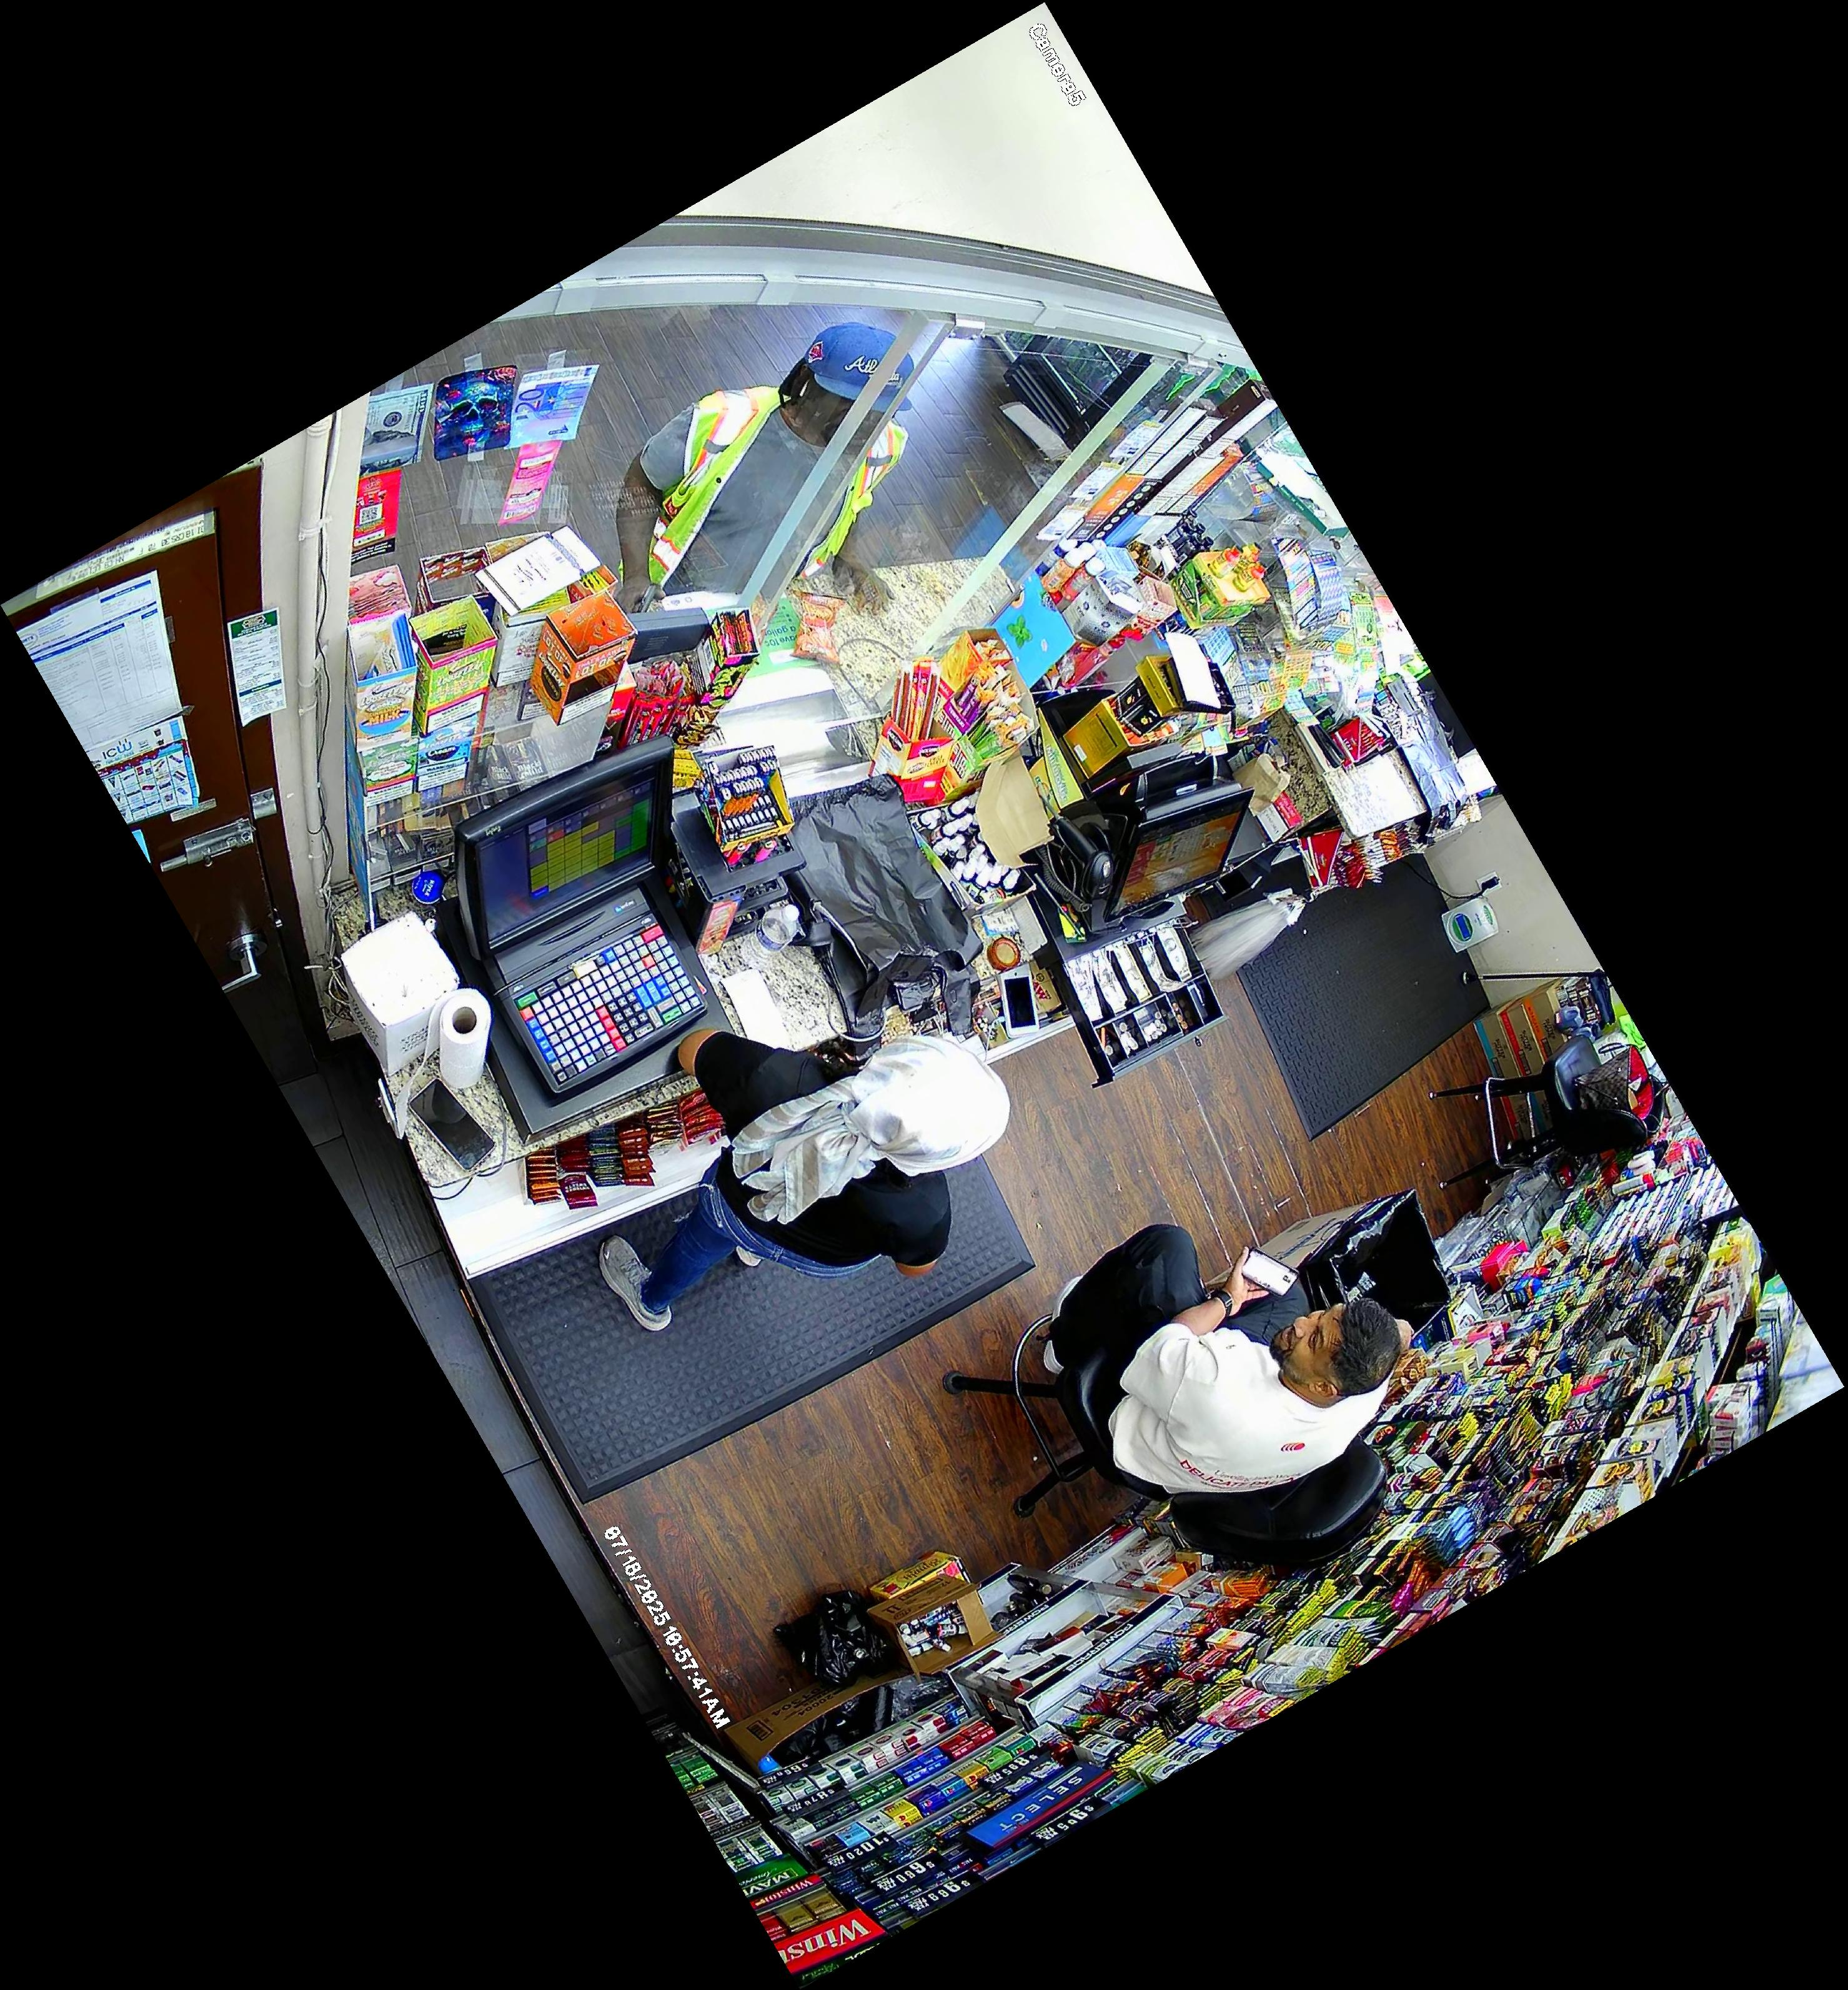phone: (1226, 1240, 1306, 1304), (618, 585, 653, 625)
